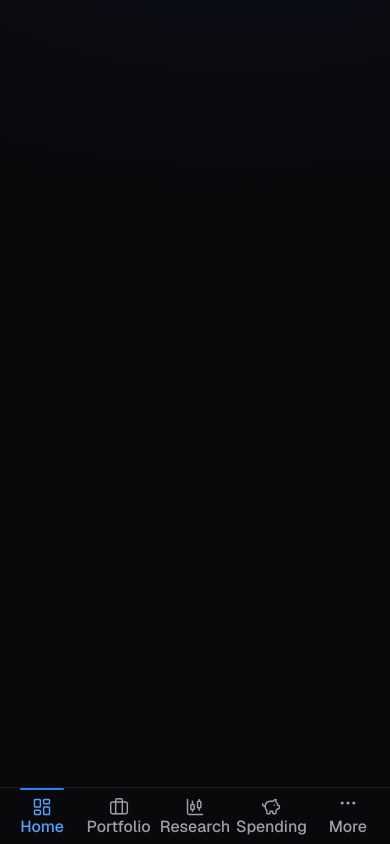
Scenario: MobileNav › closes after navigating to an overflow destination
Click the button "More".
click(348, 816)  # box [310, 788, 386, 843]
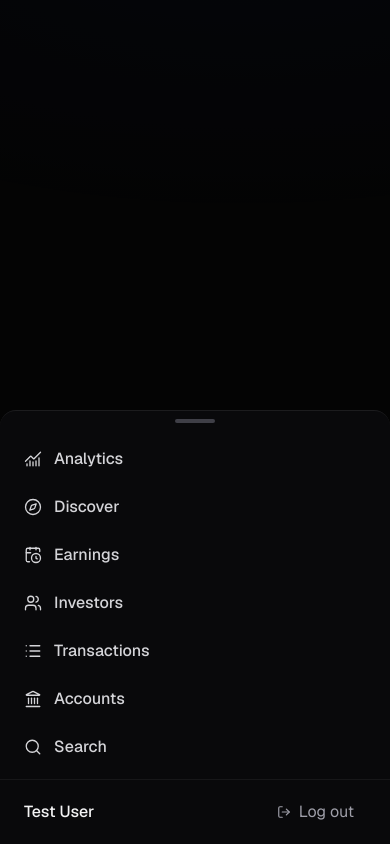
Click the link "Accounts".
click(74, 698)  # box [24, 688, 125, 709]
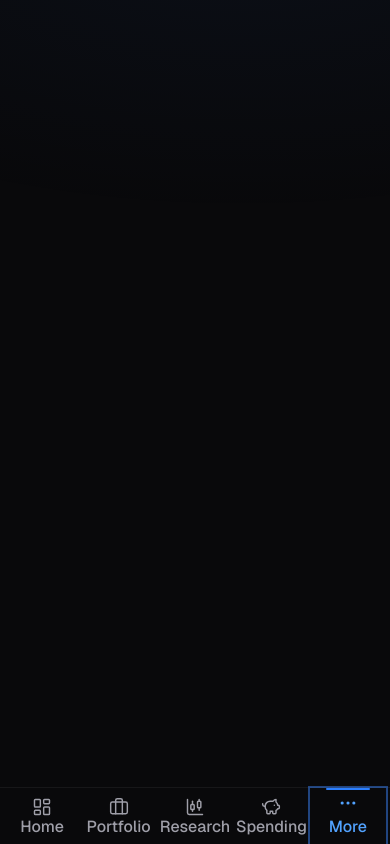
Now the dialog is gone
